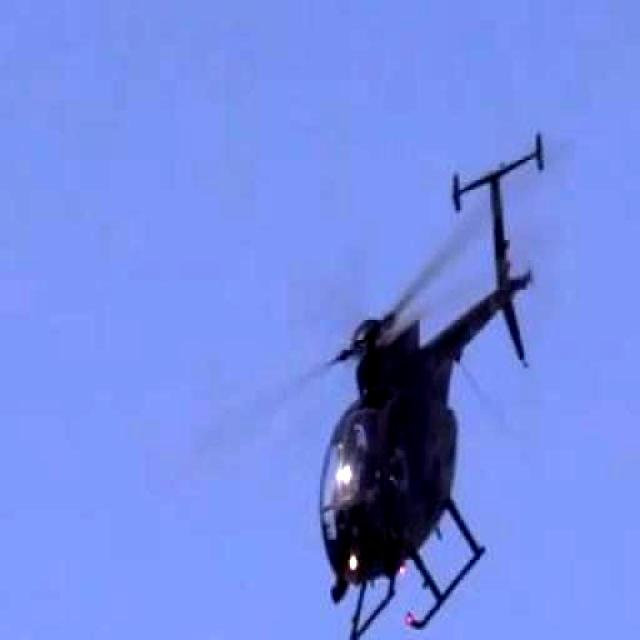drone: (185, 114, 640, 640)
